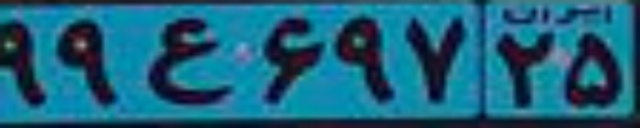2: (495, 31, 554, 108)
5: (562, 30, 624, 108)
6: (258, 16, 324, 104)
7: (403, 13, 467, 102)
9: (55, 18, 118, 105), (335, 17, 394, 102), (0, 19, 44, 110)
ain: (145, 15, 232, 104)
